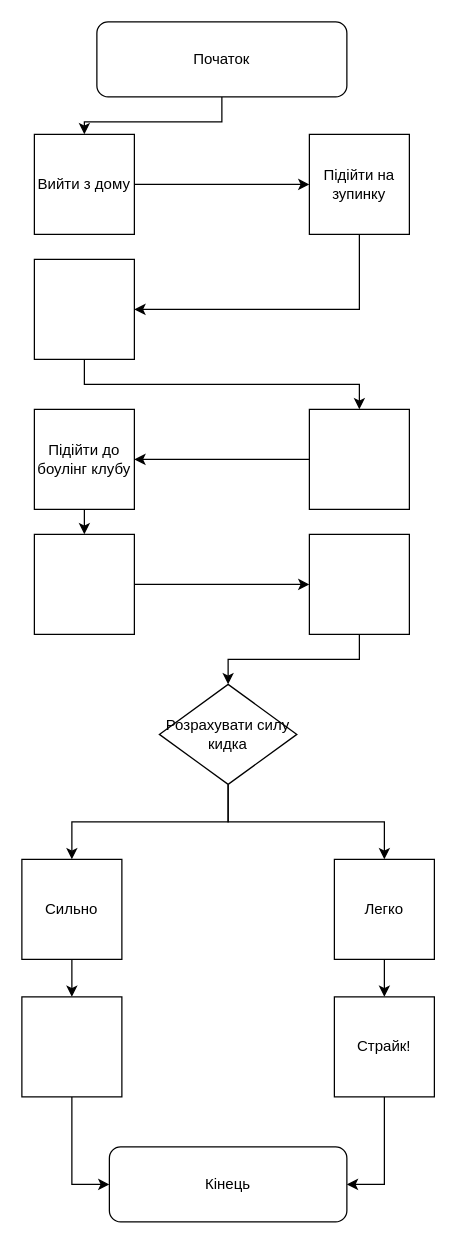
Image size: 456x1244. Some labels were removed from this diagram. Each missing label, with the centre of its shape:
Взяти кулю для боулінга: (358,583)
Ви збили 4 кеглі: (71,1046)
Вийти з автобусу: (358,458)
Сісти на автобус: (83,308)
Увійти всередину: (83,583)
